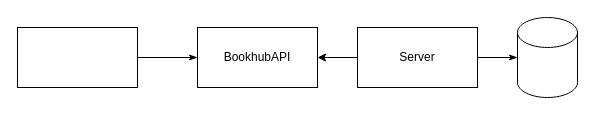
This 595x115 diagram has some shape labels left out. Each missing label, with the centre of its shape:
Client: the point at 77,57
Database: the point at 547,57
